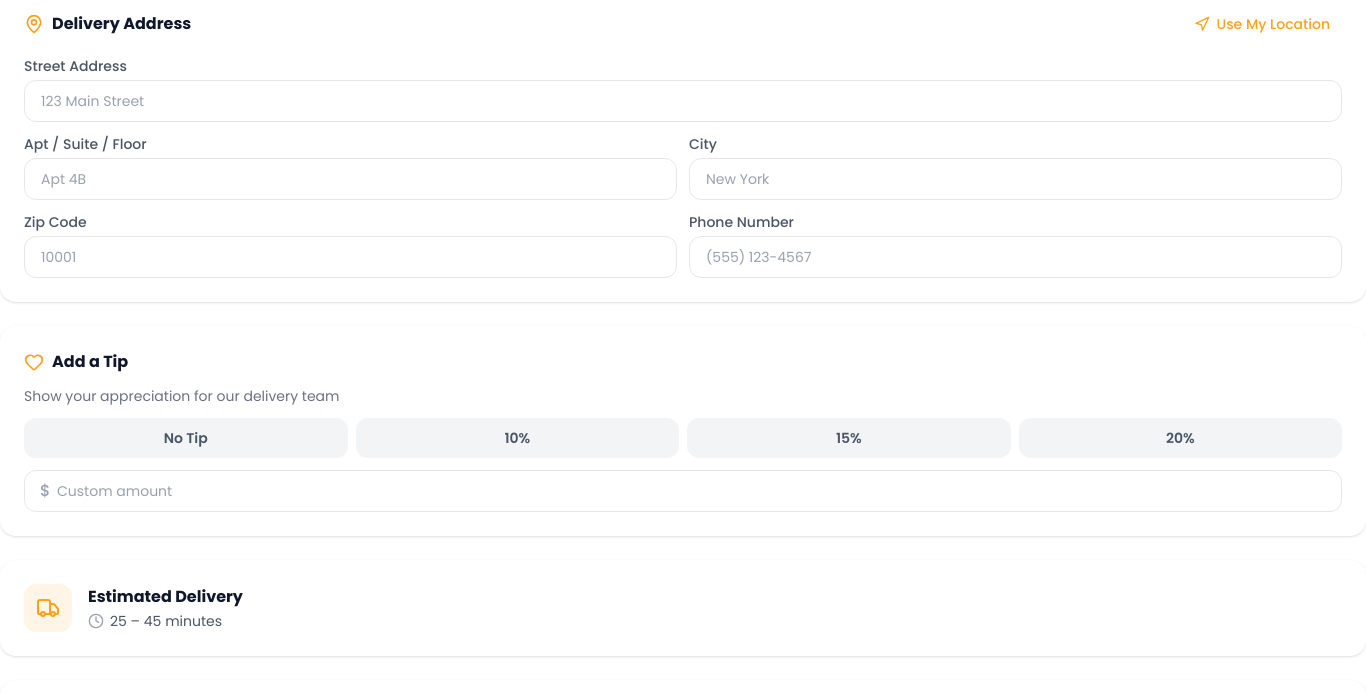
Test: CheckoutForm › adds the tip line and bumps the total when a tip is entered
Click the button "10%" at [517, 438], box [356,418,679,458]
(page scrolled)
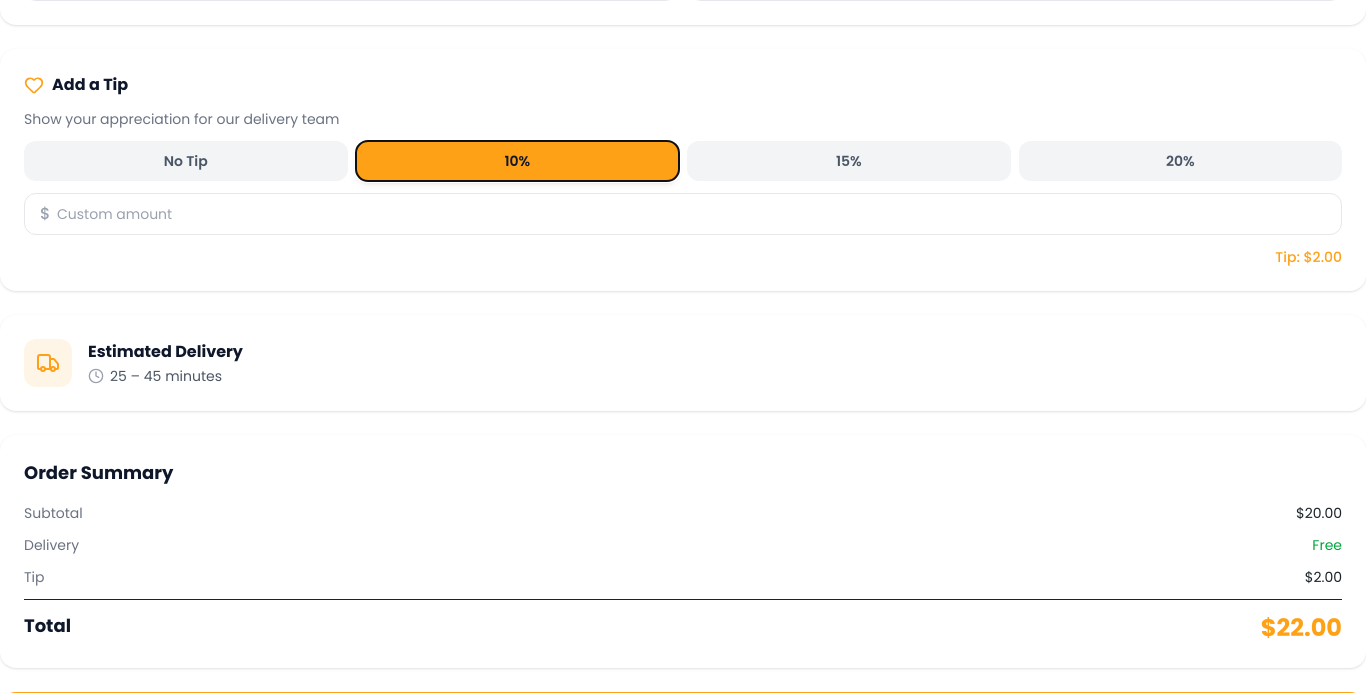
Expected: the text "$22.00" is shown, [1261,612,1342,644]
